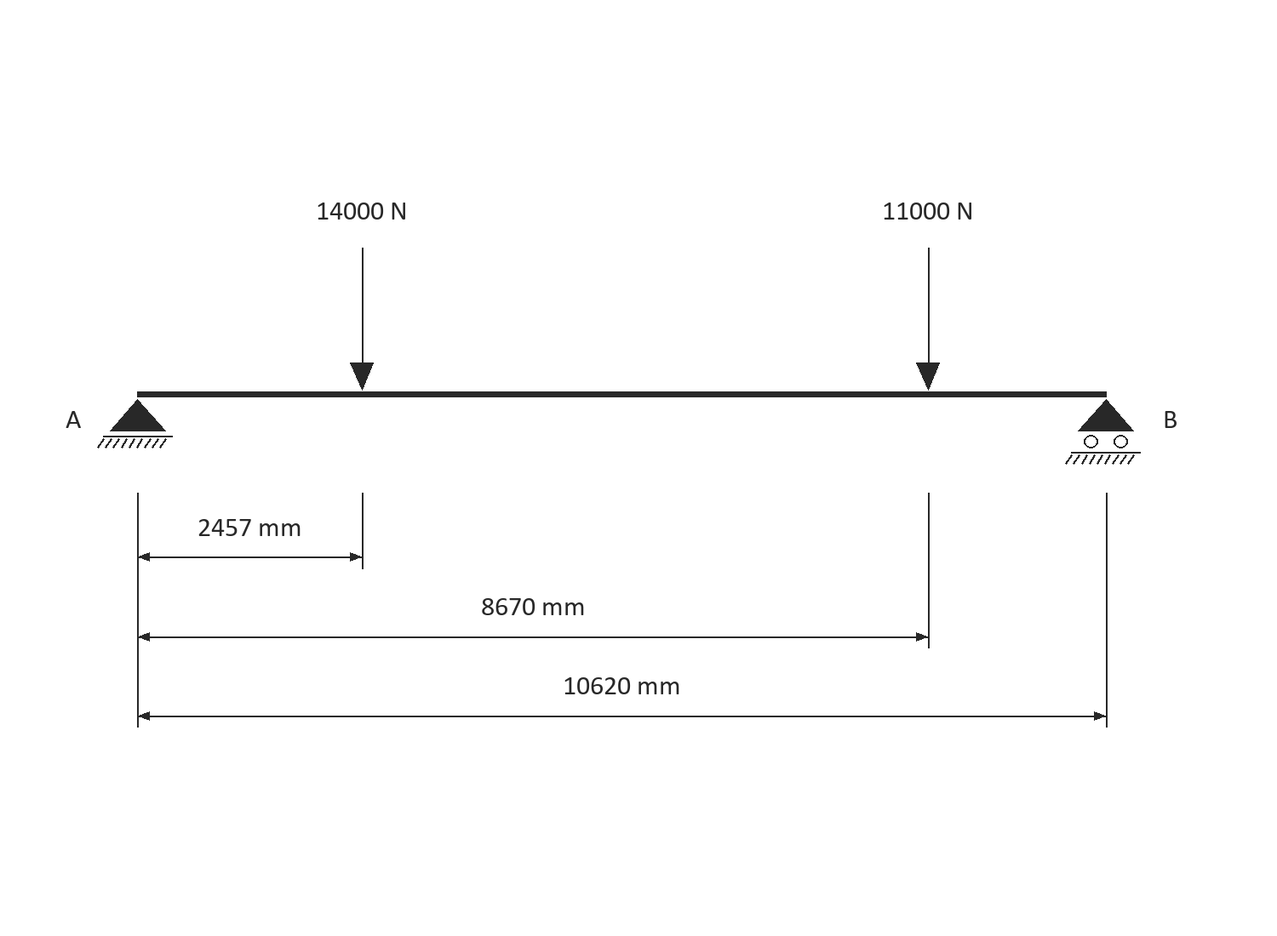pin_support: (97, 399, 173, 448)
point_load: (350, 248, 374, 391), (916, 248, 940, 391)
roller_support: (1065, 399, 1141, 465)
